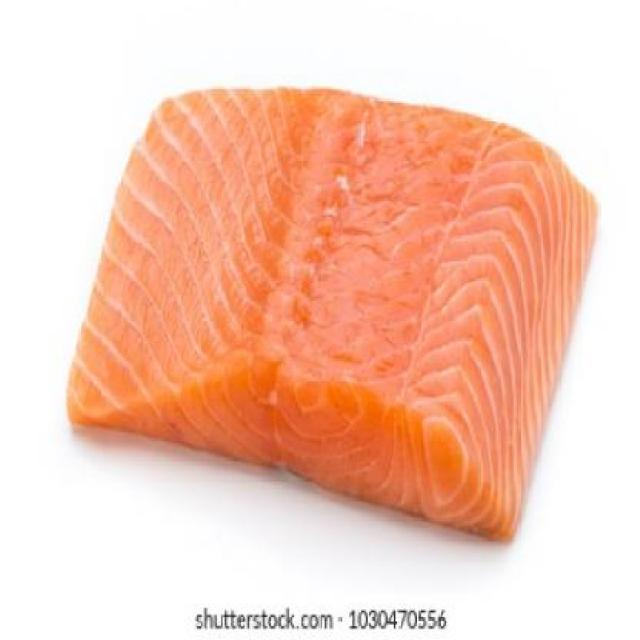salmon: (59, 57, 622, 548)
